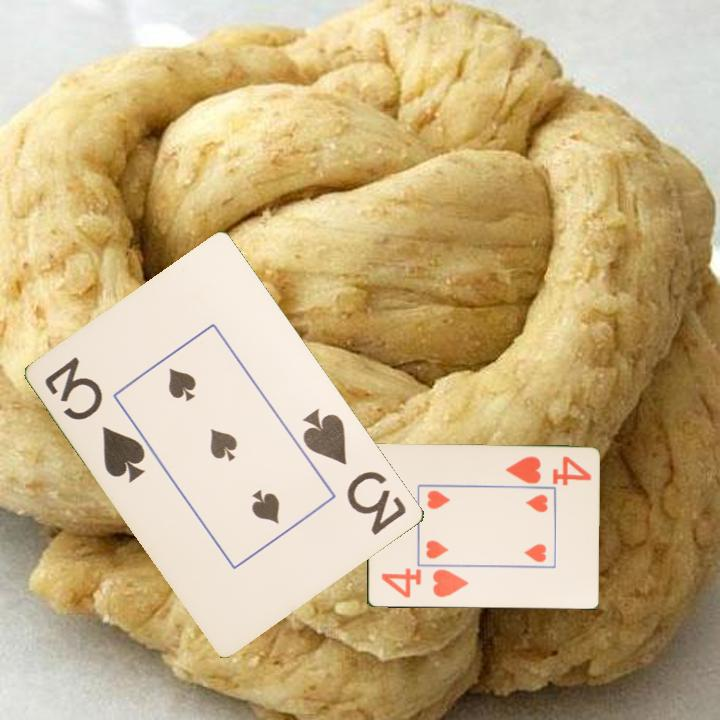3s: (299, 405, 410, 538), (41, 353, 149, 486)
4h: (378, 566, 471, 601), (502, 453, 593, 487)
